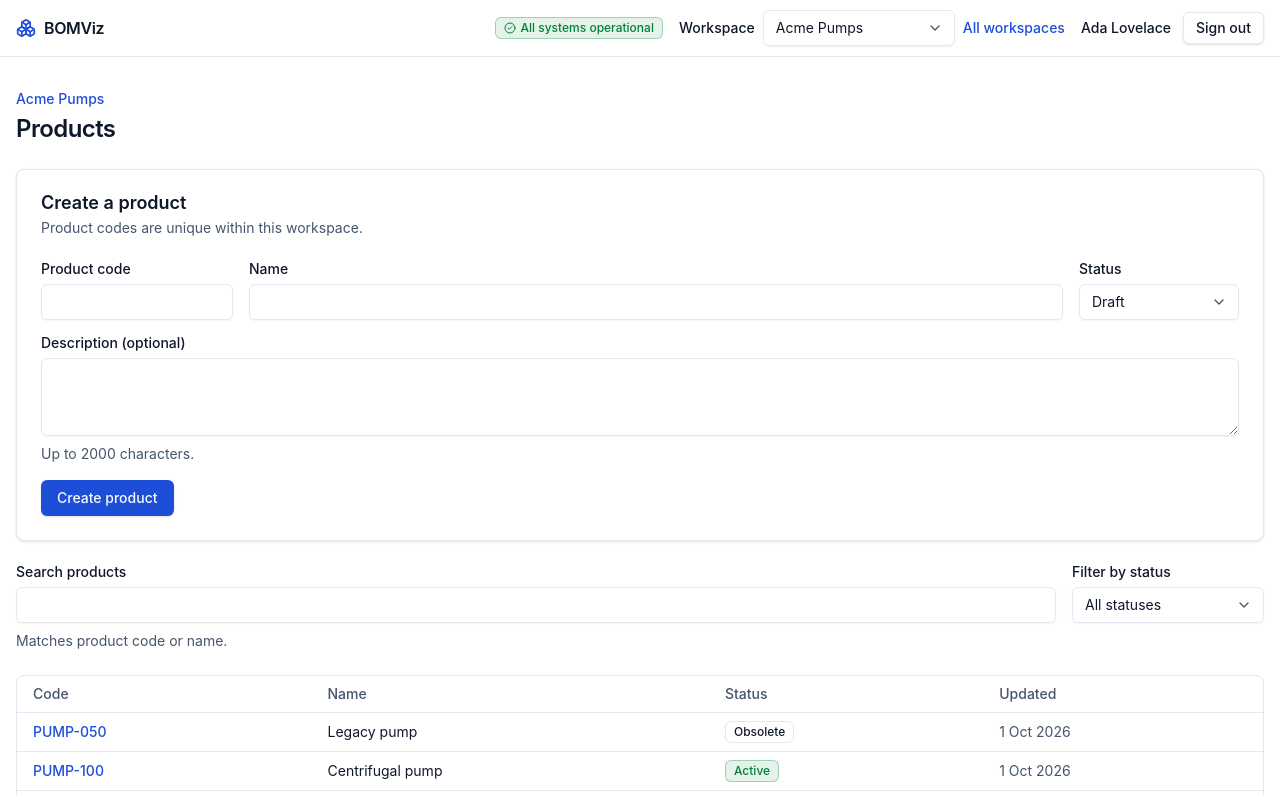
Test: ProductsPage create › creates a product and opens it
The image size is (1280, 795).
Type "  MOTOR-1  " into the field labelled "Product code". click: [137, 302]
box: [41, 284, 233, 320]
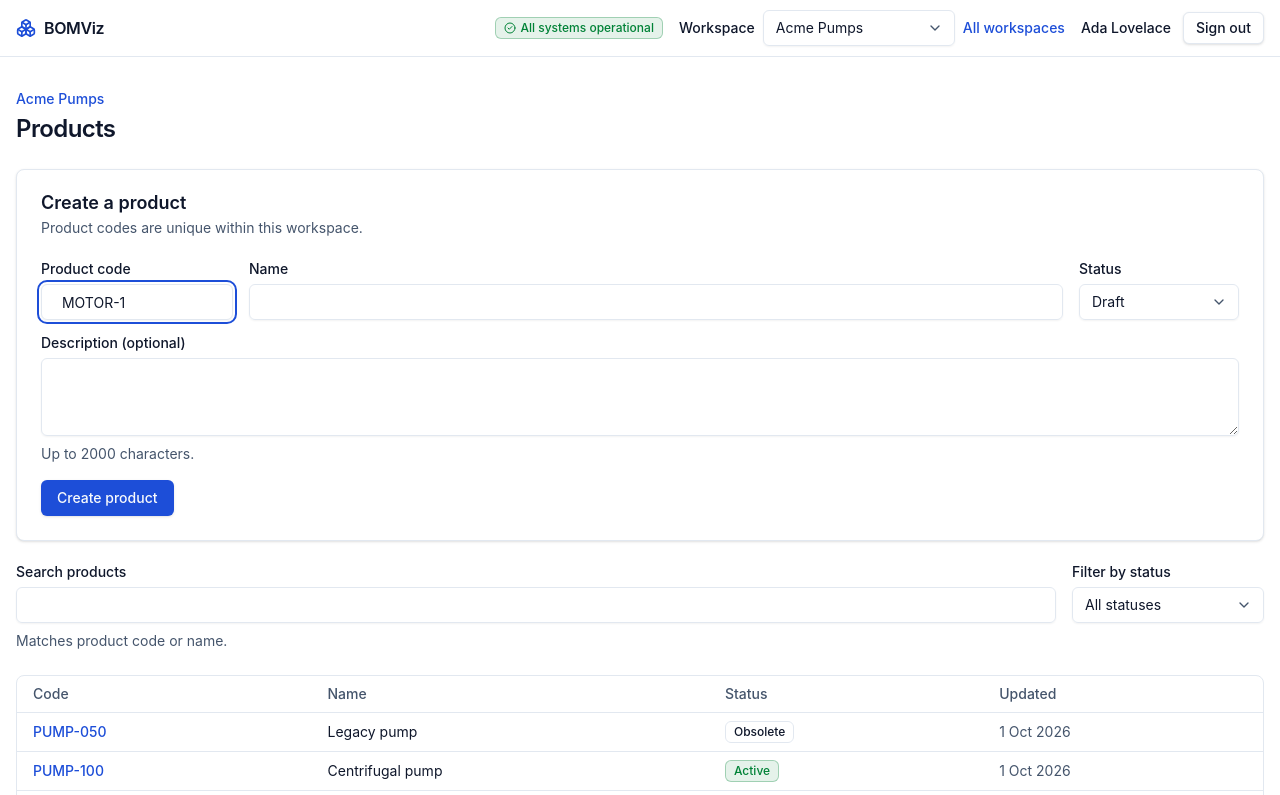
Type "Drive motor" into the field labelled "Name". click: [656, 302]
box: [249, 284, 1063, 320]
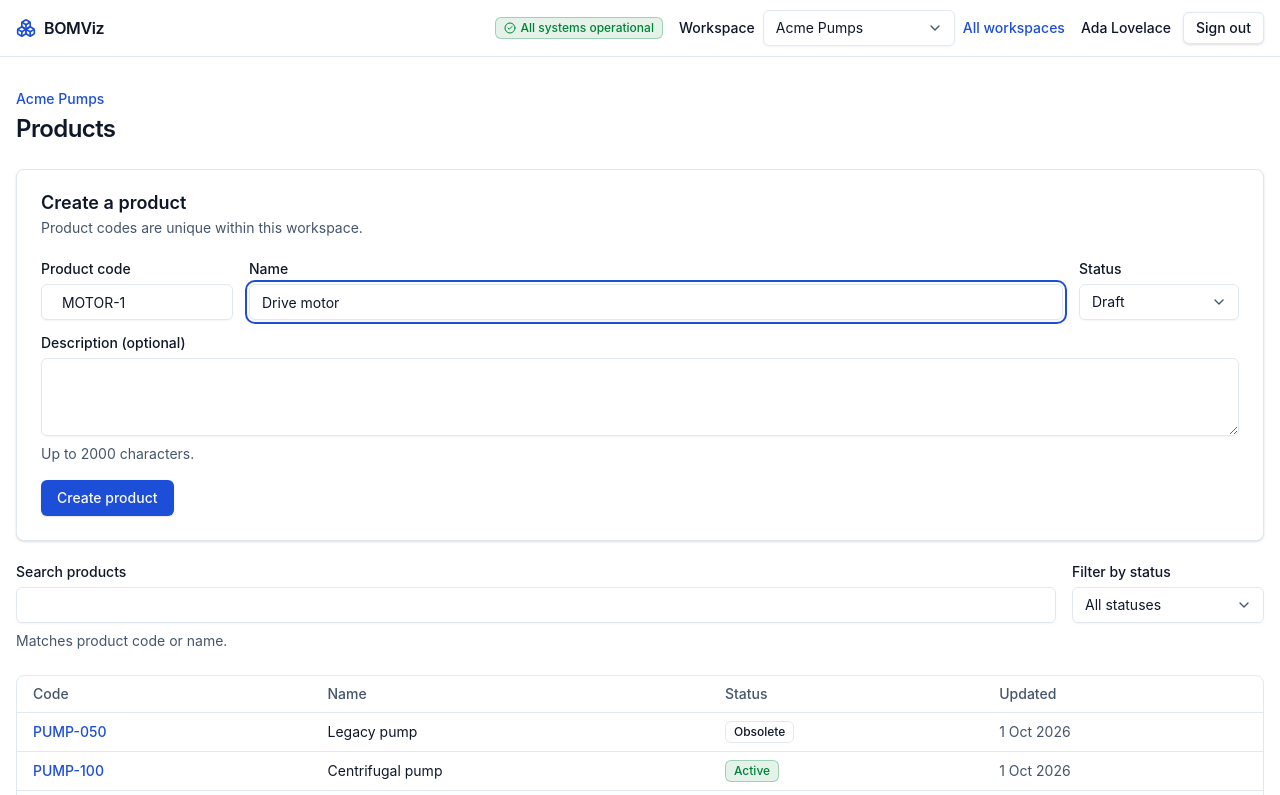
Select "Active" in the dropdown labelled "Status". click: [1159, 302]
box: [1079, 284, 1239, 320]
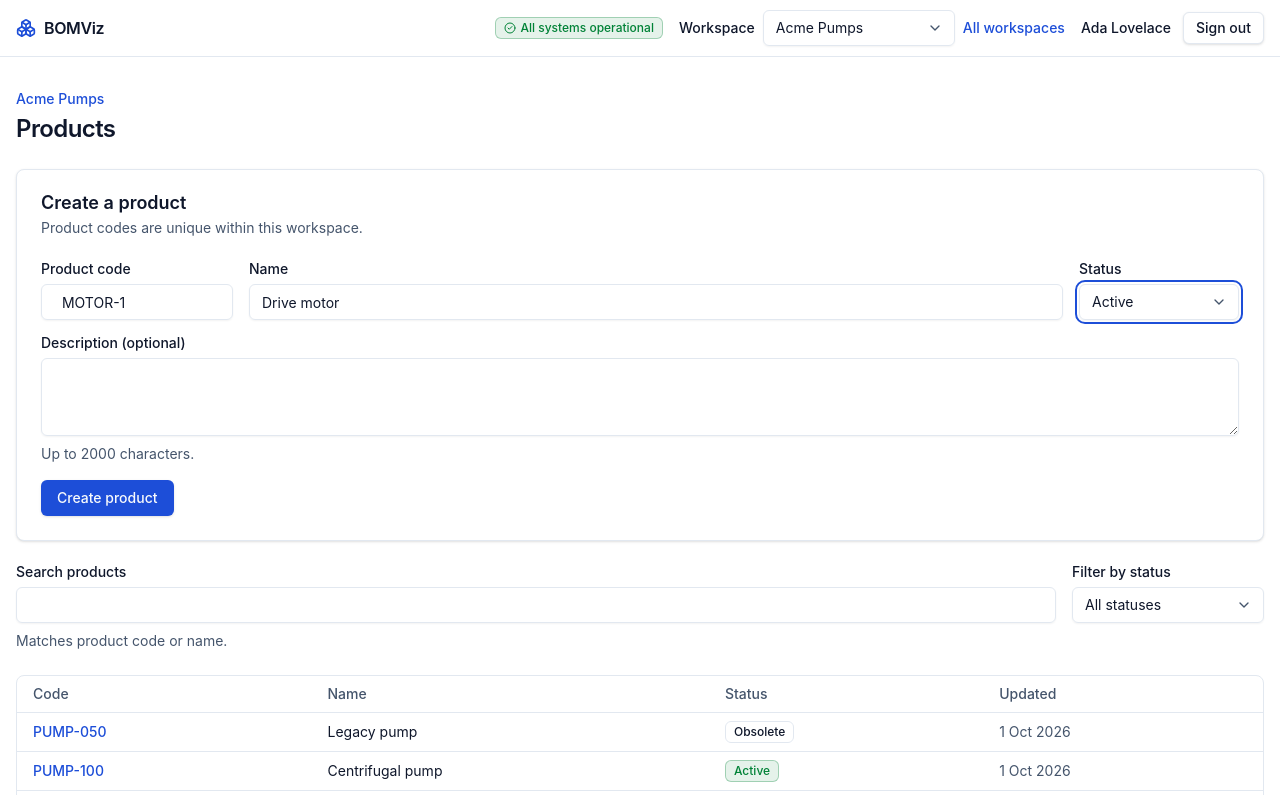
Click the button "Create product". click: [107, 498]
box: [41, 480, 174, 516]
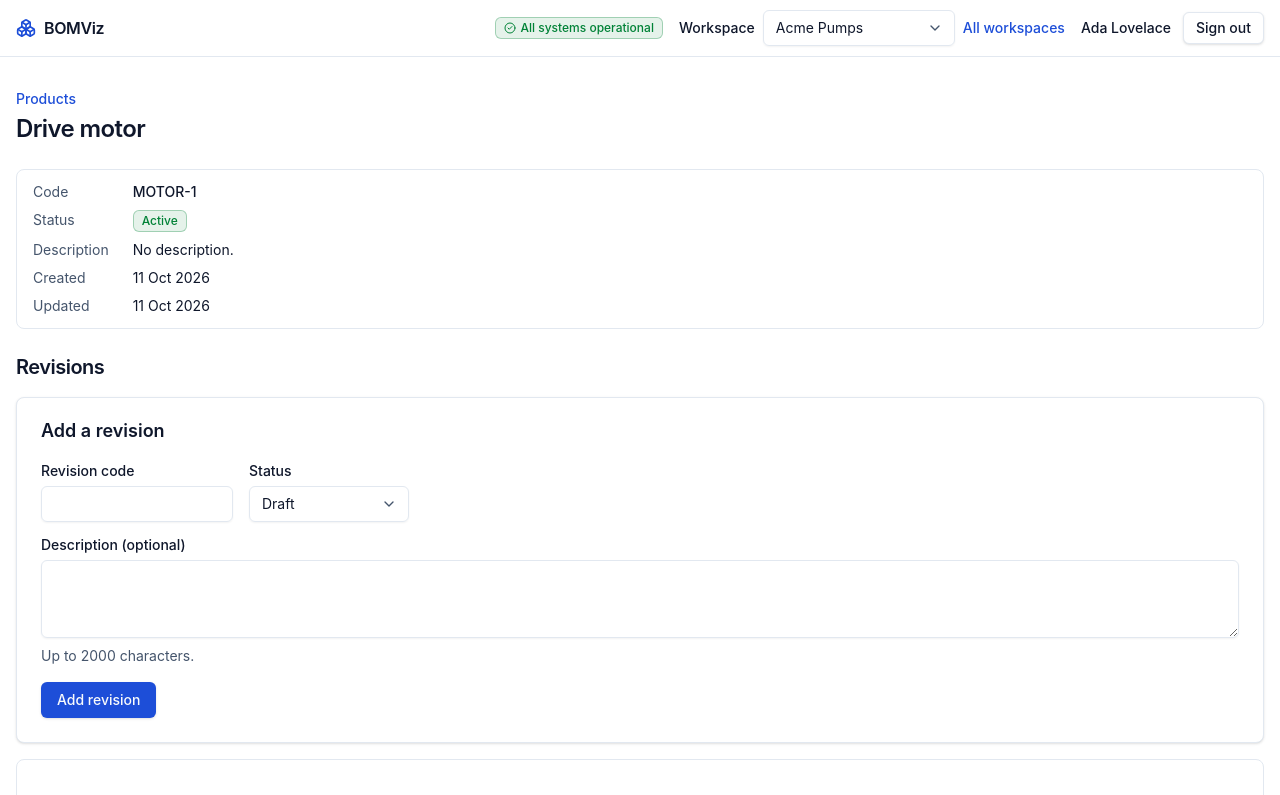
Expected: the heading "Drive motor" is shown, [16, 114, 145, 143]
